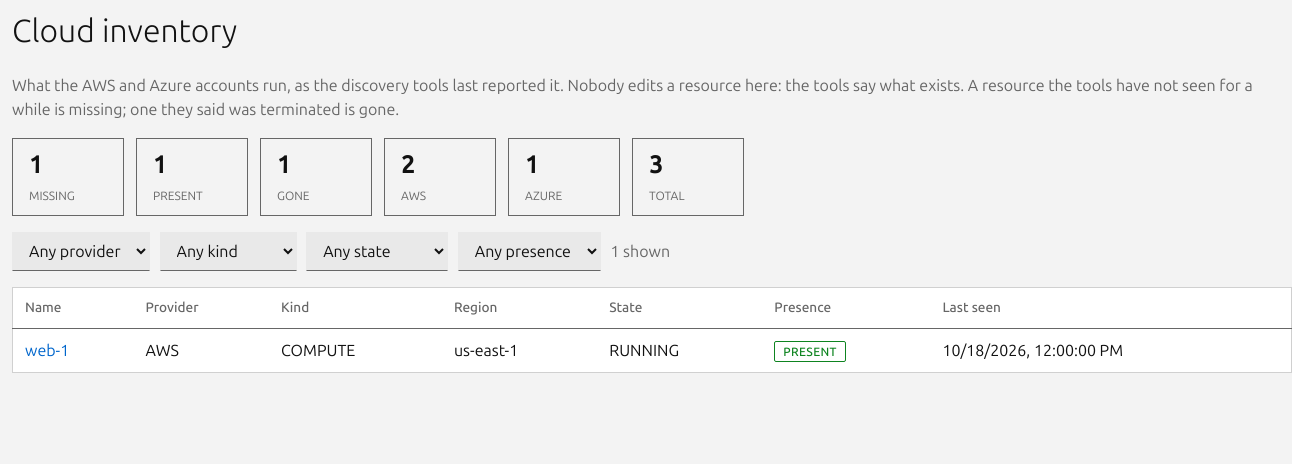
Scenario: one resource › shows the problem when one resource cannot be read
What coordinates should you click on to do the following:
click the button "web-1"
I would click on:
 (47, 351)
Its box is [25,339,69,363].
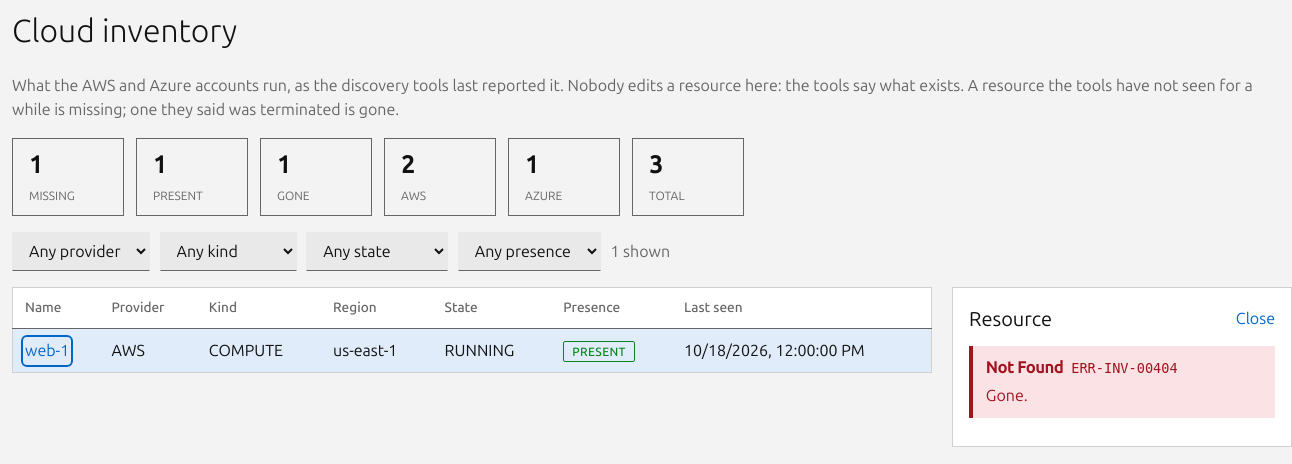
Check: the text "ERR-INV-00404" is shown, box [1071,360,1178,376]
